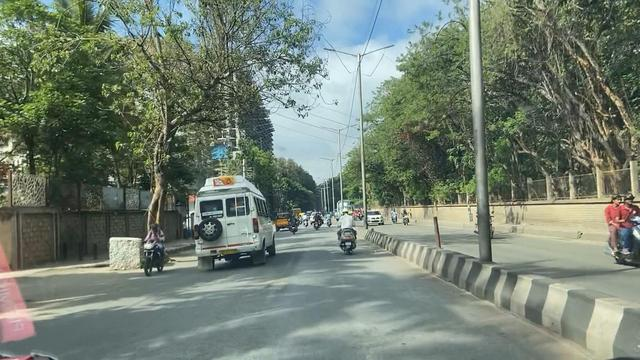HMV: (182, 174, 276, 270)
LMV: (134, 216, 172, 273), (331, 209, 361, 260)
